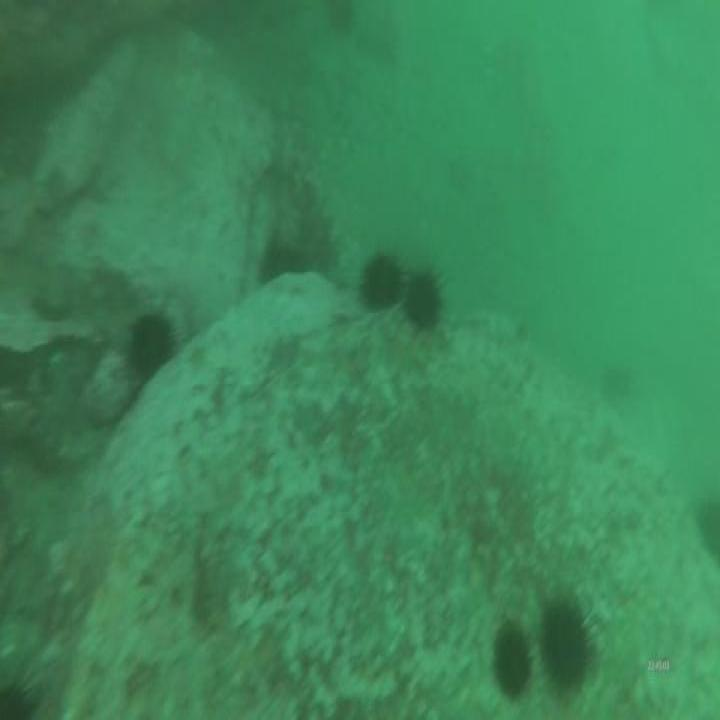echinus: (536, 587, 595, 704), (487, 610, 536, 704), (122, 306, 177, 382), (400, 258, 446, 340), (355, 247, 408, 315), (256, 235, 315, 288), (695, 489, 720, 565), (325, 0, 358, 34)
